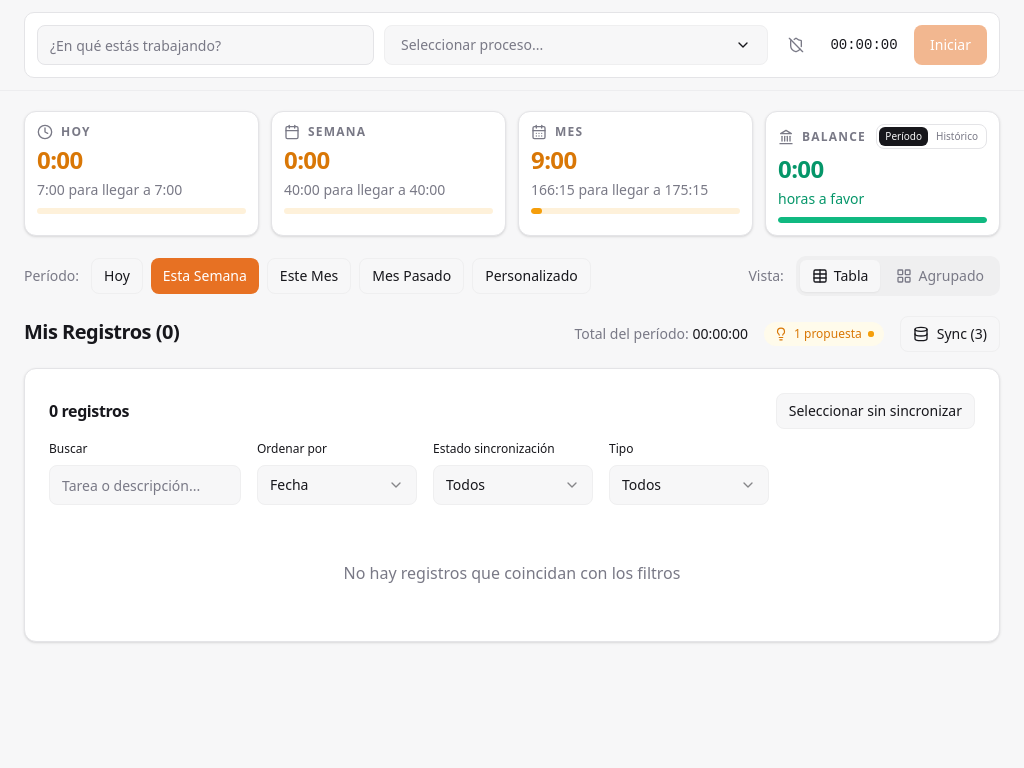
Test: TaskProposals acceptance integration › modal opens on indicator click › opens TaskProposalModal when proposal indicator is clicked
# Click the indicator to open modal
Click the button "1 propuesta": {"x": 824, "y": 334} [764,322,884,346]
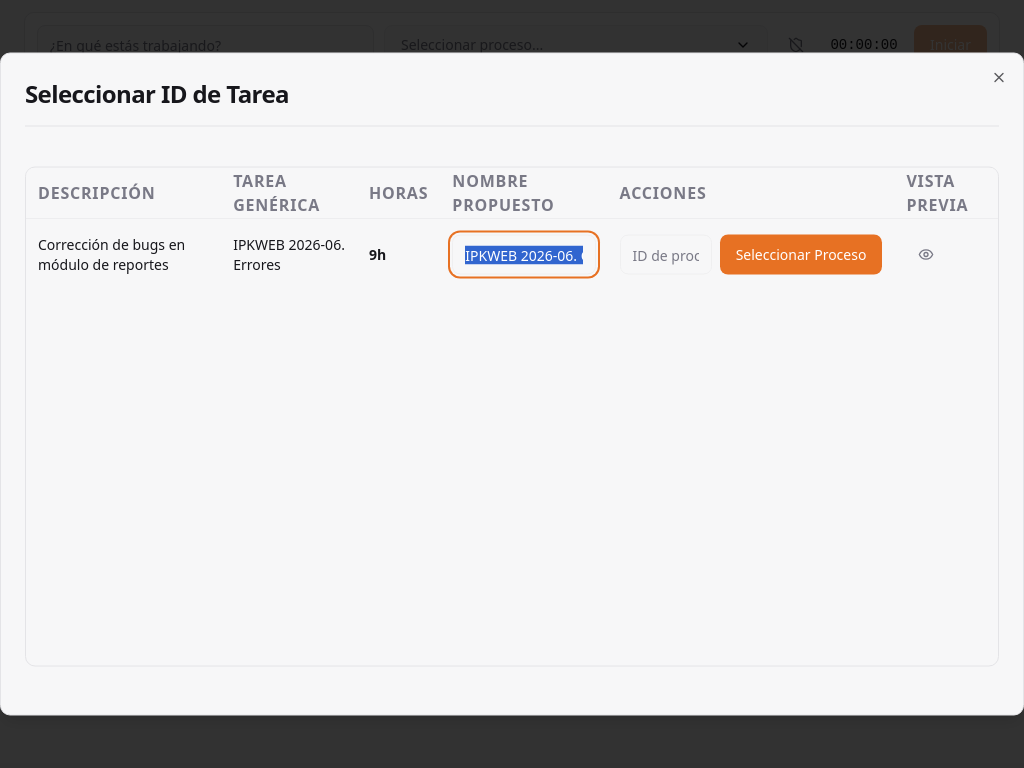
Expected: the heading "Seleccionar ID de Tarea" is shown, [25,76,289,110]
